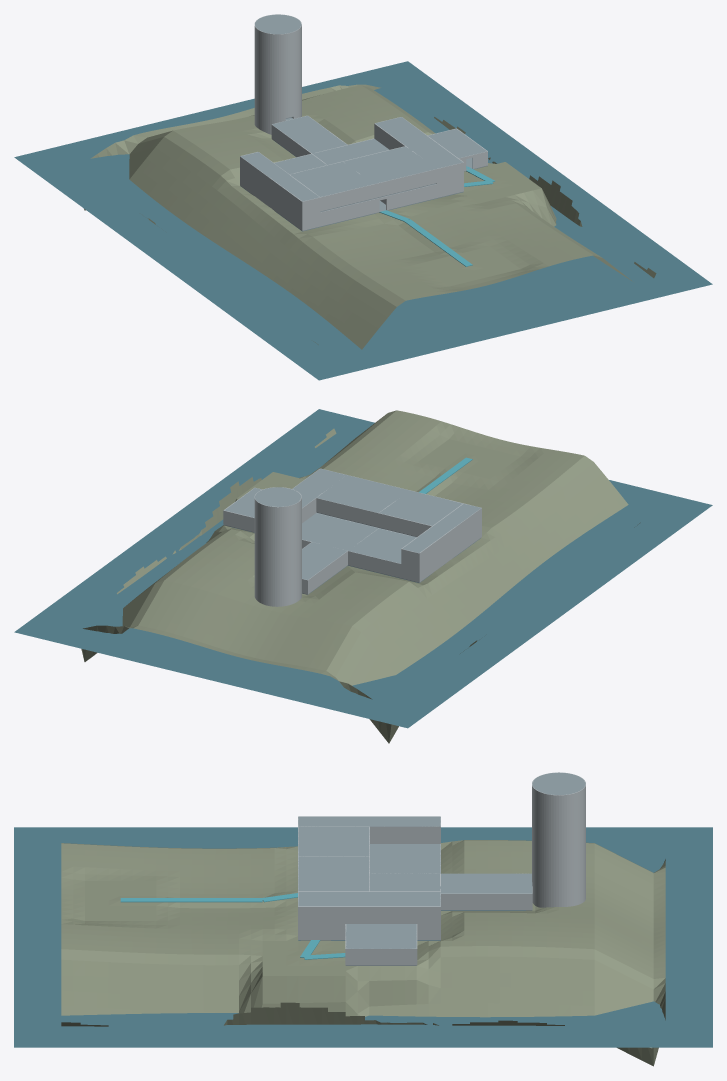
File: rough-shell.glb
The picture shows the model from 3 angles, top to bottom: view 1: azimuth 30°, elevation 25°; view 2: azimuth 150°, elevation 25°; view 3: azimuth 270°, elevation 25°; orthographic projection. The views are drawn at different scales.
Visible parts, largest first — view 1: WATER PLACEHOLDER / layers and transparency pending, Saved editor terrain WLD-14, Ceiling cap study, Ceiling cap bed, Ceiling cap upperhall, Ceiling cap passage, Ceiling cap service-upper, Wall service-stair W, Ceiling cap store, Wall service-upper W, Wall study S, Ceiling cap generator (+9 smaller); view 2: Saved editor terrain WLD-14, WATER PLACEHOLDER / layers and transparency pending, Ceiling cap study, Ceiling cap store, Ceiling cap bed, Ceiling cap workroom, Ceiling cap service-upper, Wall service-stair W, Ceiling cap passage, Wall service-upper W, Wall study N, Ceiling cap upperhall (+10 smaller); view 3: Saved editor terrain WLD-14, WATER PLACEHOLDER / layers and transparency pending, Ceiling cap study, Wall upperhall E, Ceiling cap bed, Ceiling cap upperhall, Ceiling cap workroom, Ceiling cap passage, Ceiling cap generator, Ceiling cap service-upper, Wall passage E, Ceiling cap store (+10 smaller).
Part boxes in pixels (left/top/right/bottom): WATER PLACEHOLDER / layers and transparency pending: left=14, top=61, right=712, bottom=380; Saved editor terrain WLD-14: left=84, top=84, right=656, bottom=349; Ceiling cap study: left=343, top=146, right=436, bottom=183; Ceiling cap bed: left=290, top=161, right=373, bottom=196; Ceiling cap upperhall: left=375, top=117, right=462, bottom=168; Ceiling cap passage: left=272, top=115, right=346, bottom=153; Ceiling cap service-upper: left=241, top=152, right=319, bottom=201; Wall service-stair W: left=240, top=170, right=302, bottom=230; Ceiling cap store: left=313, top=138, right=389, bottom=164; Wall service-upper W: left=240, top=156, right=302, bottom=215; Wall study S: left=374, top=169, right=436, bottom=198; Ceiling cap generator: left=428, top=129, right=486, bottom=158; Saved editor terrain WLD-14: left=81, top=410, right=640, bottom=743; WATER PLACEHOLDER / layers and transparency pending: left=14, top=409, right=712, bottom=728; Ceiling cap study: left=317, top=475, right=409, bottom=512; Ceiling cap store: left=302, top=513, right=377, bottom=550; Ceiling cap bed: left=379, top=490, right=462, bottom=525; Ceiling cap workroom: left=348, top=528, right=416, bottom=563; Ceiling cap service-upper: left=402, top=504, right=480, bottom=552; Wall service-stair W: left=419, top=522, right=481, bottom=582; Ceiling cap passage: left=302, top=542, right=346, bottom=579; Wall service-upper W: left=419, top=508, right=481, bottom=567; Wall study N: left=316, top=498, right=378, bottom=527; Ceiling cap upperhall: left=292, top=468, right=346, bottom=507; Saved editor terrain WLD-14: left=61, top=840, right=665, bottom=1066; WATER PLACEHOLDER / layers and transparency pending: left=14, top=827, right=712, bottom=1047; Ceiling cap study: left=298, top=856, right=369, bottom=891; Wall upperhall E: left=298, top=906, right=440, bottom=922; Ceiling cap bed: left=298, top=826, right=369, bottom=856; Ceiling cap upperhall: left=298, top=892, right=440, bottom=906; Ceiling cap workroom: left=370, top=844, right=440, bottom=873; Ceiling cap passage: left=440, top=873, right=532, bottom=893; Ceiling cap generator: left=345, top=924, right=416, bottom=948; Ceiling cap service-upper: left=298, top=816, right=440, bottom=826; Wall passage E: left=441, top=893, right=532, bottom=909; Ceiling cap store: left=370, top=873, right=440, bottom=891.
Bounding box in the file's own units: 88 × 38.28 × 118.
